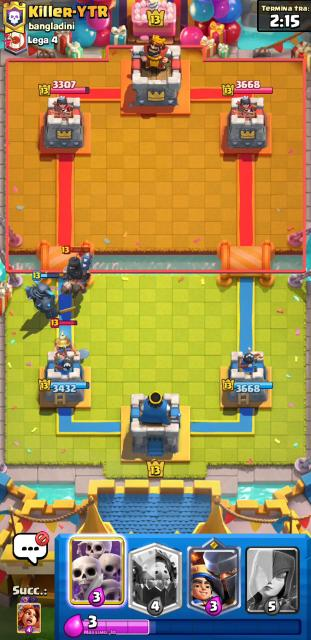ally_melee: (24, 269, 61, 318)
enemy_melee: (61, 247, 92, 301), (50, 317, 78, 353)
